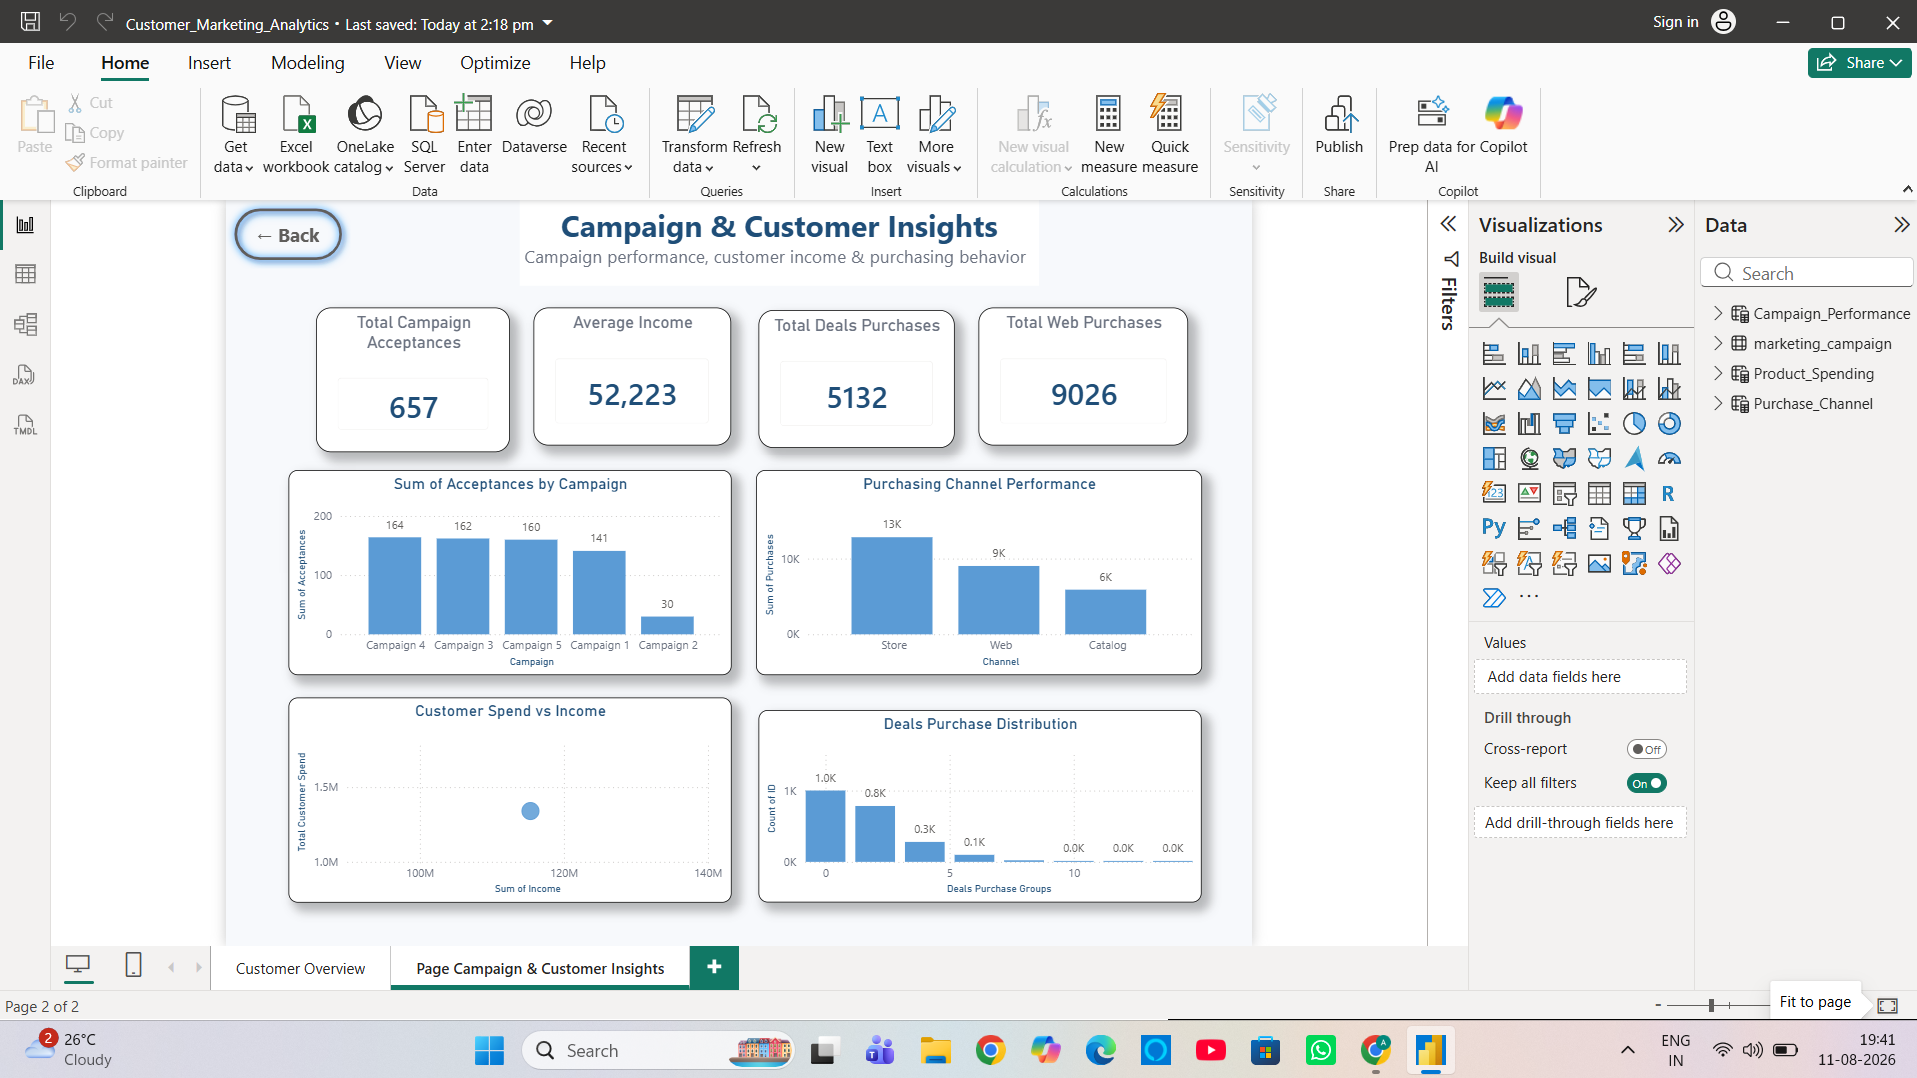

The dashboard page shown, as its layout file describes it:
{"tool":"powerbi","page":{"name":"Page Campaign & Customer Insights","canvas":[1100,800],"ordinal":1},"visuals":[{"type":"textbox","box":[315,0,556.7,91.7],"z":0},{"type":"cardVisual","title":"Total Campaign Acceptances","fields":{"Data":["Product_Spending.Total Campaign Acceptances"]},"box":[96.7,115,208.3,155],"z":1},{"type":"cardVisual","title":"Average Income","fields":{"Data":["Product_Spending.Average Income"]},"box":[330,115,211.7,148.3],"z":2},{"type":"cardVisual","title":"Total Deals Purchases","fields":{"Data":["Product_Spending.Total Deals Purchases"]},"box":[571.7,118.3,210,148.3],"z":3},{"type":"cardVisual","title":"Total Web Purchases","fields":{"Data":["Product_Spending.Total Web Purchases"]},"box":[806.7,115,225,148.3],"z":4},{"type":"clusteredColumnChart","fields":{"Y":["Sum(Campaign_Performance.Acceptances)"],"Category":["Campaign_Performance.Campaign"]},"box":[66.7,290,475,220],"z":5},{"type":"scatterChart","title":"Customer Spend vs Income","fields":{"X":["Sum(marketing_campaign.Income)"],"Y":["marketing_campaign.Total Customer Spend"],"Size":["CountNonNull(marketing_campaign.ID)"]},"box":[66.7,533.3,475,220],"z":6},{"type":"clusteredColumnChart","title":"Purchasing Channel Performance","fields":{"Category":["Purchase_Channel.Channel"],"Y":["Sum(Purchase_Channel.Purchases)"]},"box":[568.3,290,478.3,220],"z":7},{"type":"clusteredColumnChart","title":"Deals Purchase Distribution","fields":{"Y":["CountNonNull(marketing_campaign.ID)"],"Category":["marketing_campaign.Deals Purchase Groups"]},"box":[571.7,546.7,475,206.7],"z":8},{"type":"actionButton","box":[0,0,133.3,73.3],"z":12}]}

Visuals, with their boxes on the page's 1100x800 design canvas (x1, y1, x2, y2). These are canvas units, not pixel positions in the 1917x1078 screenshot, which may show the page scaled, cropped or inside an application window:
textbox: {"left": 315, "top": 0, "right": 872, "bottom": 92}
"Total Campaign Acceptances" cardVisual: {"left": 97, "top": 115, "right": 305, "bottom": 270}
"Average Income" cardVisual: {"left": 330, "top": 115, "right": 542, "bottom": 263}
"Total Deals Purchases" cardVisual: {"left": 572, "top": 118, "right": 782, "bottom": 267}
"Total Web Purchases" cardVisual: {"left": 807, "top": 115, "right": 1032, "bottom": 263}
clusteredColumnChart - Sum(Campaign_Performance.Acceptances) x Campaign_Performance.Campaign: {"left": 67, "top": 290, "right": 542, "bottom": 510}
"Customer Spend vs Income" scatterChart: {"left": 67, "top": 533, "right": 542, "bottom": 753}
"Purchasing Channel Performance" clusteredColumnChart: {"left": 568, "top": 290, "right": 1047, "bottom": 510}
"Deals Purchase Distribution" clusteredColumnChart: {"left": 572, "top": 547, "right": 1047, "bottom": 753}
actionButton: {"left": 0, "top": 0, "right": 133, "bottom": 73}
